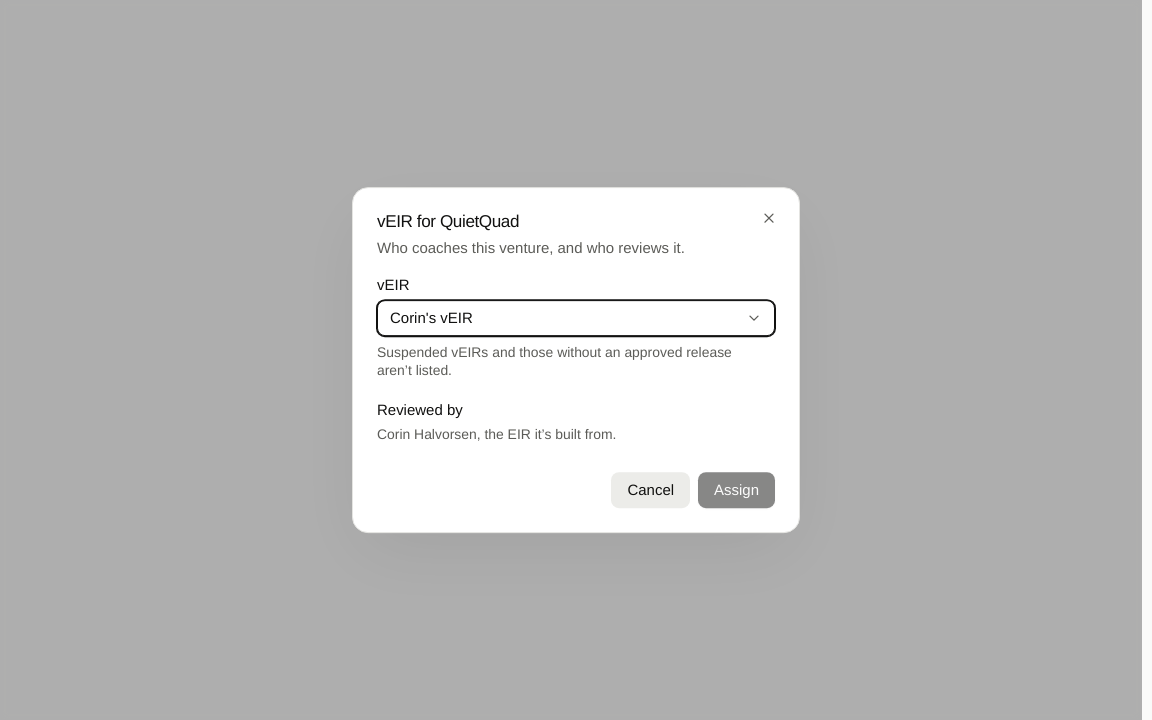
AssignDialog (vEIRs & assignments) › starts on the current vEIR, lists only assignable ones and has nothing to save
Expected: the text "Corin Halvorsen, the EIR it’s built from." is shown, [377, 426, 616, 442]
Expected: the button "Assign" is disabled, [698, 472, 775, 508]
Click the dropdown labelled "vEIR": [431, 318] box [377, 300, 775, 336]
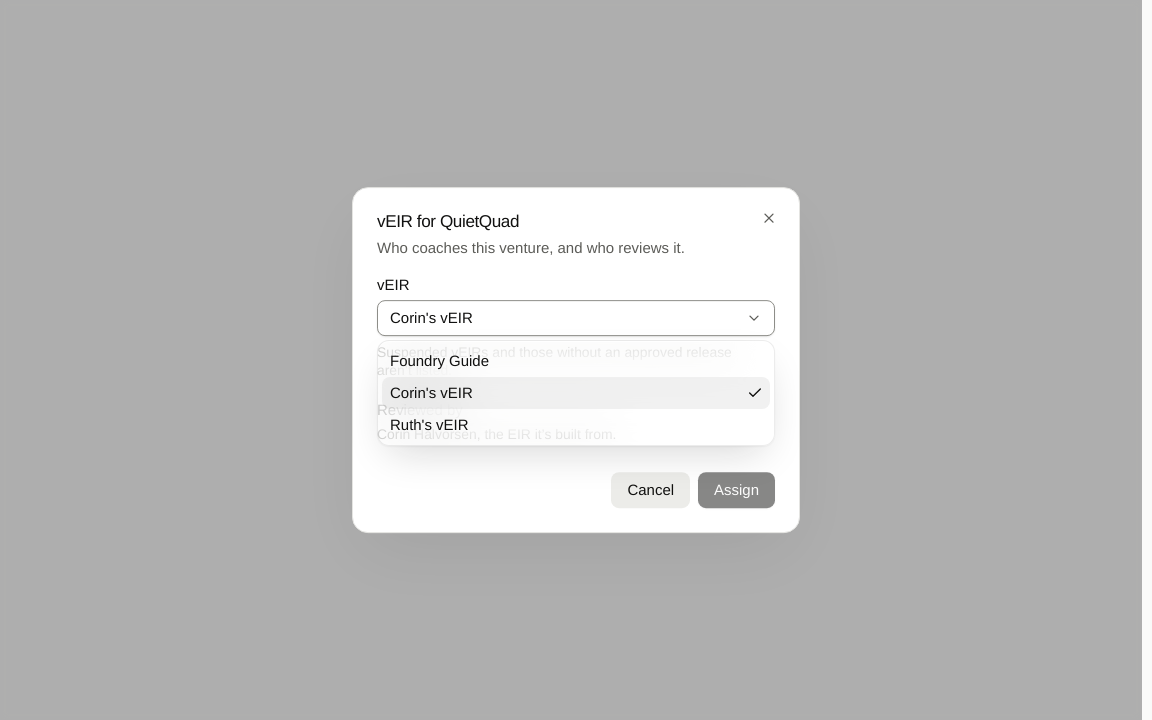
Result: the options read "Foundry Guide", "Corin's vEIR", "Ruth's vEIR", in this order at [390, 352, 489, 369]; [382, 377, 770, 409]; [390, 416, 469, 433]
